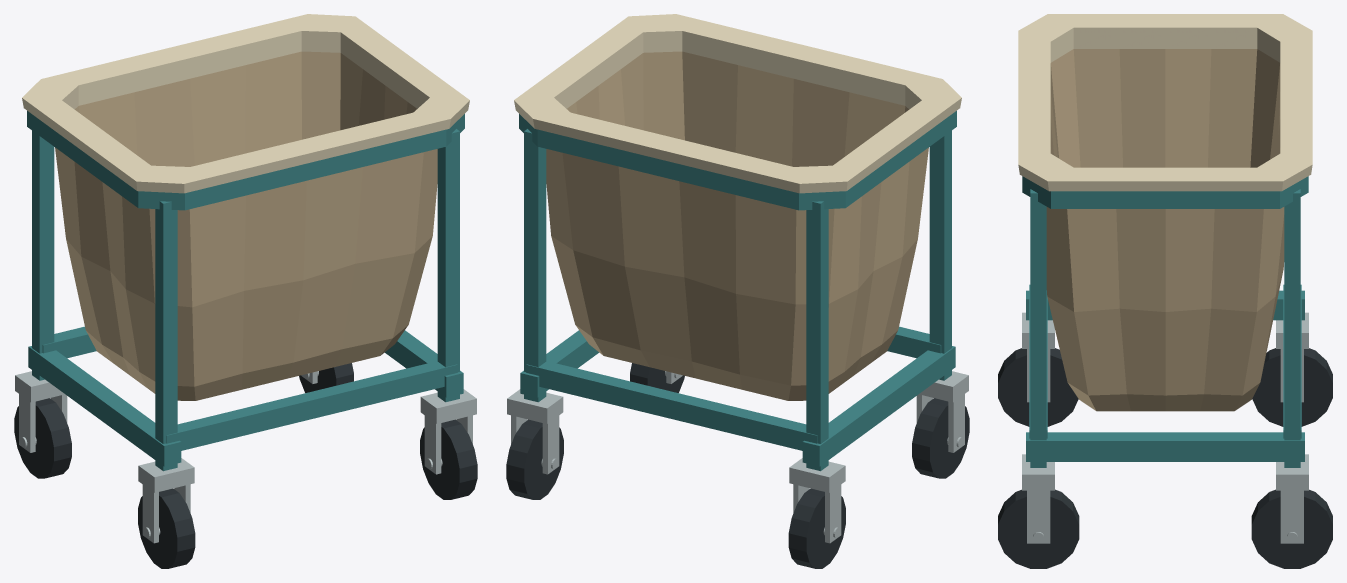
3 views of the same model, side by side, from view 1: azimuth 30°, elevation 25°; view 2: azimuth 150°, elevation 25°; view 3: azimuth 270°, elevation 25° (orthographic). The views are drawn at different scales.
Parts seen in each view (by area): view 1: Hamper_ContinuousThickFabric, Chassis_EndCrossbar_Front, Frame_ContinuousUpperRim, Frame_Post_L_Front, Frame_Post_R_Front, Chassis_SideRail_L, Frame_Post_L_Rear, Caster_Tread_L_Rear, Caster_Tread_R_Front, Caster_Tread_L_Front, Chassis_SideRail_R, Caster_Bridge_L_Front (+7 smaller); view 2: Hamper_ContinuousThickFabric, Chassis_EndCrossbar_Rear, Frame_ContinuousUpperRim, Frame_Post_L_Rear, Frame_Post_R_Rear, Chassis_SideRail_L, Frame_Post_L_Front, Caster_Tread_L_Front, Caster_Tread_R_Rear, Caster_Tread_L_Rear, Chassis_SideRail_R, Caster_Bridge_L_Rear (+7 smaller); view 3: Hamper_ContinuousThickFabric, Chassis_SideRail_R, Frame_ContinuousUpperRim, Caster_Tread_R_Front, Caster_Tread_R_Rear, Frame_Post_R_Front, Frame_Post_R_Rear, Caster_Tread_L_Rear, Caster_Tread_L_Front, Caster_Fork_R_Front_Outer, Caster_Fork_R_Rear_Outer, Caster_Bridge_R_Front (+6 smaller).
Part boxes in pixels (x1=…): Hamper_ContinuousThickFabric: x1=22, y1=14, x2=469, y2=400; Chassis_EndCrossbar_Front: x1=166, y1=361, x2=457, y2=450; Frame_ContinuousUpperRim: x1=27, y1=111, x2=464, y2=210; Frame_Post_L_Front: x1=155, y1=201, x2=177, y2=471; Frame_Post_R_Front: x1=437, y1=129, x2=459, y2=402; Chassis_SideRail_L: x1=28, y1=346, x2=181, y2=466; Frame_Post_L_Rear: x1=32, y1=130, x2=54, y2=380; Caster_Tread_L_Rear: x1=14, y1=398, x2=71, y2=478; Caster_Tread_R_Front: x1=420, y1=419, x2=477, y2=499; Caster_Tread_L_Front: x1=138, y1=488, x2=195, y2=568; Chassis_SideRail_R: x1=385, y1=330, x2=463, y2=397; Caster_Bridge_L_Front: x1=138, y1=458, x2=194, y2=492; Hamper_ContinuousThickFabric: x1=514, y1=14, x2=961, y2=400; Chassis_EndCrossbar_Rear: x1=526, y1=361, x2=817, y2=450; Frame_ContinuousUpperRim: x1=519, y1=111, x2=956, y2=210; Frame_Post_L_Rear: x1=806, y1=201, x2=828, y2=471; Frame_Post_R_Rear: x1=524, y1=129, x2=546, y2=402; Chassis_SideRail_L: x1=802, y1=346, x2=955, y2=466; Frame_Post_L_Front: x1=929, y1=130, x2=951, y2=380; Caster_Tread_L_Front: x1=912, y1=398, x2=969, y2=478; Caster_Tread_R_Rear: x1=506, y1=419, x2=563, y2=499; Caster_Tread_L_Rear: x1=788, y1=488, x2=845, y2=568; Chassis_SideRail_R: x1=520, y1=330, x2=598, y2=397; Caster_Bridge_L_Rear: x1=789, y1=458, x2=845, y2=492; Hamper_ContinuousThickFabric: x1=1018, y1=14, x2=1312, y2=411; Chassis_SideRail_R: x1=1026, y1=432, x2=1304, y2=461; Frame_ContinuousUpperRim: x1=1022, y1=176, x2=1308, y2=208; Caster_Tread_R_Front: x1=998, y1=489, x2=1079, y2=568; Caster_Tread_R_Rear: x1=1251, y1=489, x2=1332, y2=568; Frame_Post_R_Front: x1=1030, y1=189, x2=1046, y2=467; Frame_Post_R_Rear: x1=1284, y1=189, x2=1300, y2=467; Caster_Tread_L_Rear: x1=1252, y1=348, x2=1332, y2=426; Caster_Tread_L_Front: x1=998, y1=348, x2=1078, y2=426; Caster_Fork_R_Front_Outer: x1=1027, y1=490, x2=1050, y2=543; Caster_Fork_R_Rear_Outer: x1=1280, y1=490, x2=1303, y2=543; Caster_Bridge_R_Front: x1=1022, y1=454, x2=1054, y2=490.
Size of the model in its own units: 0.78 by 0.861 by 0.66.
